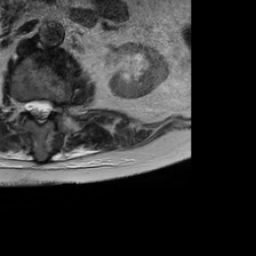CCS_normal: (35, 92, 43, 129)
LFS_stenosis: (52, 99, 60, 118)
LLS_normal: (43, 96, 52, 121)
RFS_normal: (17, 93, 26, 119)
RLS_normal: (26, 94, 35, 120)
